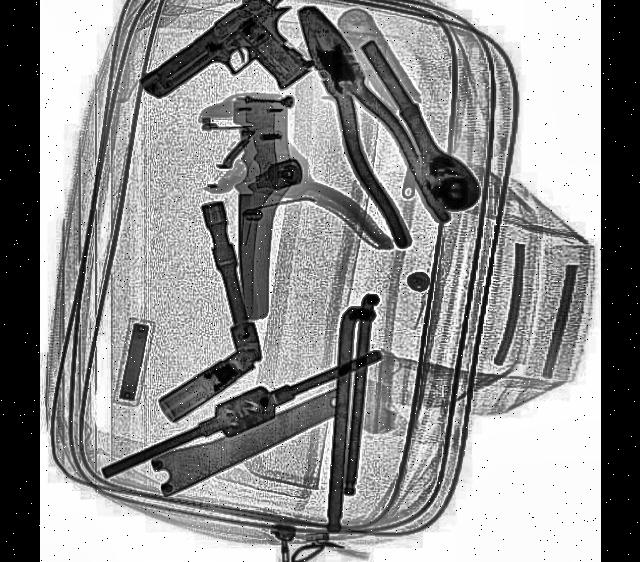Gun: (136, 0, 320, 166)
Pliers: (278, 0, 453, 257)
